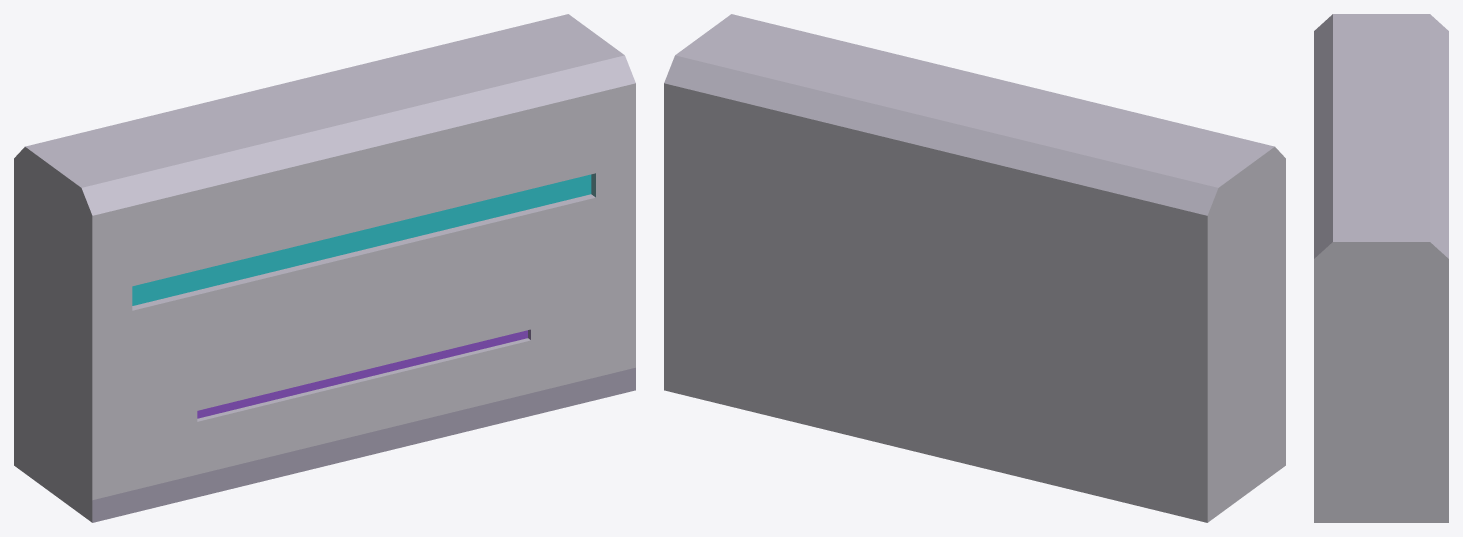
Rendered from city-barrier-neon.glb.
The picture shows the model from 3 angles, left to right: view 1: azimuth 30°, elevation 25°; view 2: azimuth 150°, elevation 25°; view 3: azimuth 270°, elevation 25°; orthographic projection. The views are drawn at different scales.
Parts seen in each view (by area): view 1: CityBarrierNeon; view 2: CityBarrierNeon; view 3: CityBarrierNeon.
Part boxes in pixels (<box>): CityBarrierNeon: <box>14,14,635,522</box>; CityBarrierNeon: <box>664,14,1285,522</box>; CityBarrierNeon: <box>1314,14,1448,522</box>.
Bounding box in the file's own units: 2 × 1.15 × 0.5.
